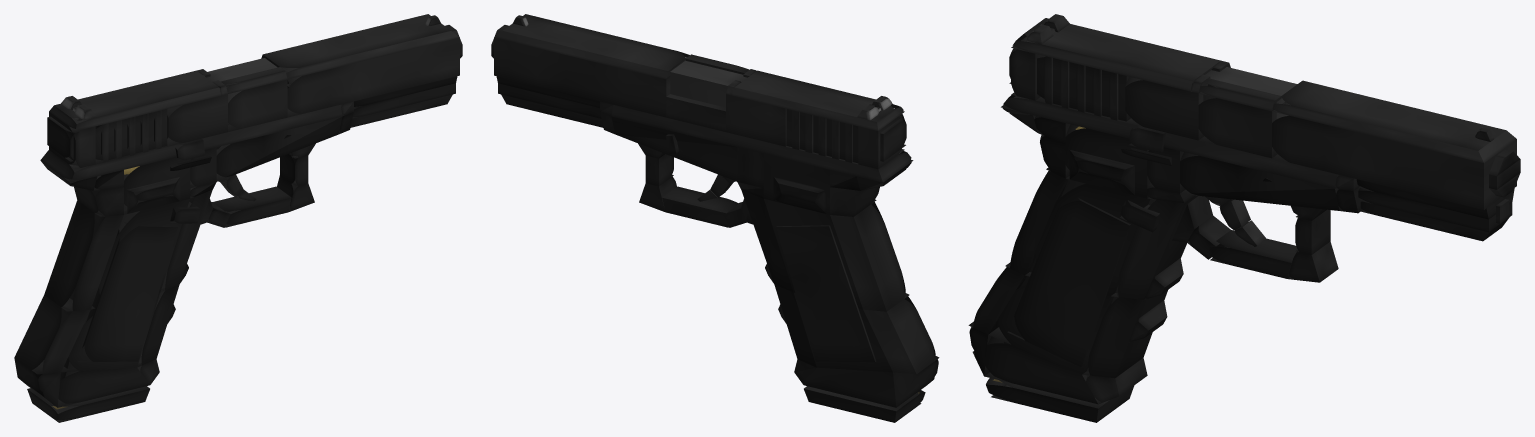
The model's file is glock17.obj.
3 renders of one model, left to right at view 1: azimuth 30°, elevation 25°; view 2: azimuth 150°, elevation 25°; view 3: azimuth 330°, elevation 25°, orthographic. The views are drawn at different scales.
Visible parts, largest first — view 1: gunModel35, slideModel0, slideModel2, gunModel7, slideModel13, gunModel11, gunModel8, gunModel20, gunModel6, slideModel1, slideModel10, ammoModel1 (+24 smaller); view 2: gunModel35, slideModel0, slideModel2, gunModel7, slideModel13, gunModel11, gunModel8, gunModel20, gunModel6, slideModel1, gunModel0, ammoModel1 (+21 smaller); view 3: gunModel35, slideModel0, slideModel2, slideModel13, gunModel20, gunModel11, gunModel15, gunModel16, gunModel6, slideModel1, slideModel10, ammoModel1 (+29 smaller).
Part boxes in pixels (x1,y1,x2,y2): gunModel35: (78,222,177,362); slideModel0: (280,37,459,113); slideModel2: (261,14,459,79); gunModel7: (44,200,123,311); slideModel13: (49,70,221,130); gunModel11: (40,105,342,182); gunModel8: (14,295,90,374); gunModel20: (216,116,342,181); gunModel6: (57,367,149,407); slideModel1: (167,94,227,142); slideModel10: (226,79,287,128); ammoModel1: (27,386,149,422); gunModel35: (776,225,876,362); slideModel0: (494,37,670,117); slideModel2: (494,14,689,79); gunModel7: (830,202,909,311); slideModel13: (732,70,904,130); gunModel11: (611,105,913,182); gunModel8: (863,292,939,374); gunModel20: (611,116,737,181); gunModel6: (804,367,896,407); slideModel1: (726,94,786,146); gunModel0: (670,60,747,107); ammoModel1: (804,386,925,422); gunModel35: (1007,198,1130,366); slideModel0: (1272,102,1516,209); slideModel2: (1272,80,1516,162); slideModel13: (1011,18,1220,91); gunModel20: (1180,152,1341,210); gunModel11: (1001,95,1338,188); gunModel15: (1111,195,1198,299); gunModel16: (1082,290,1167,378); gunModel6: (984,336,1100,404); slideModel1: (1125,76,1204,140); slideModel10: (1198,98,1277,158); ammoModel1: (986,378,1133,422).
Size of the model in its own units: 6.45 by 4.35 by 0.9255.
